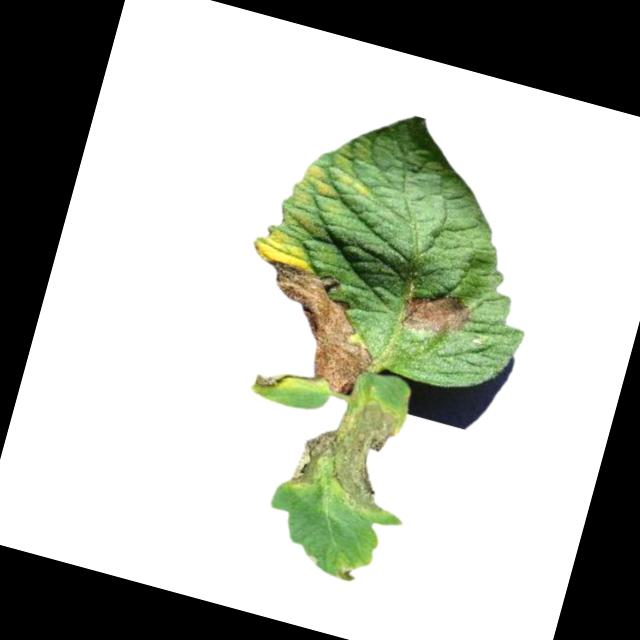Late_blight: (243, 252, 391, 401), (283, 381, 414, 522), (397, 284, 474, 346), (253, 363, 297, 396), (331, 557, 362, 584)
